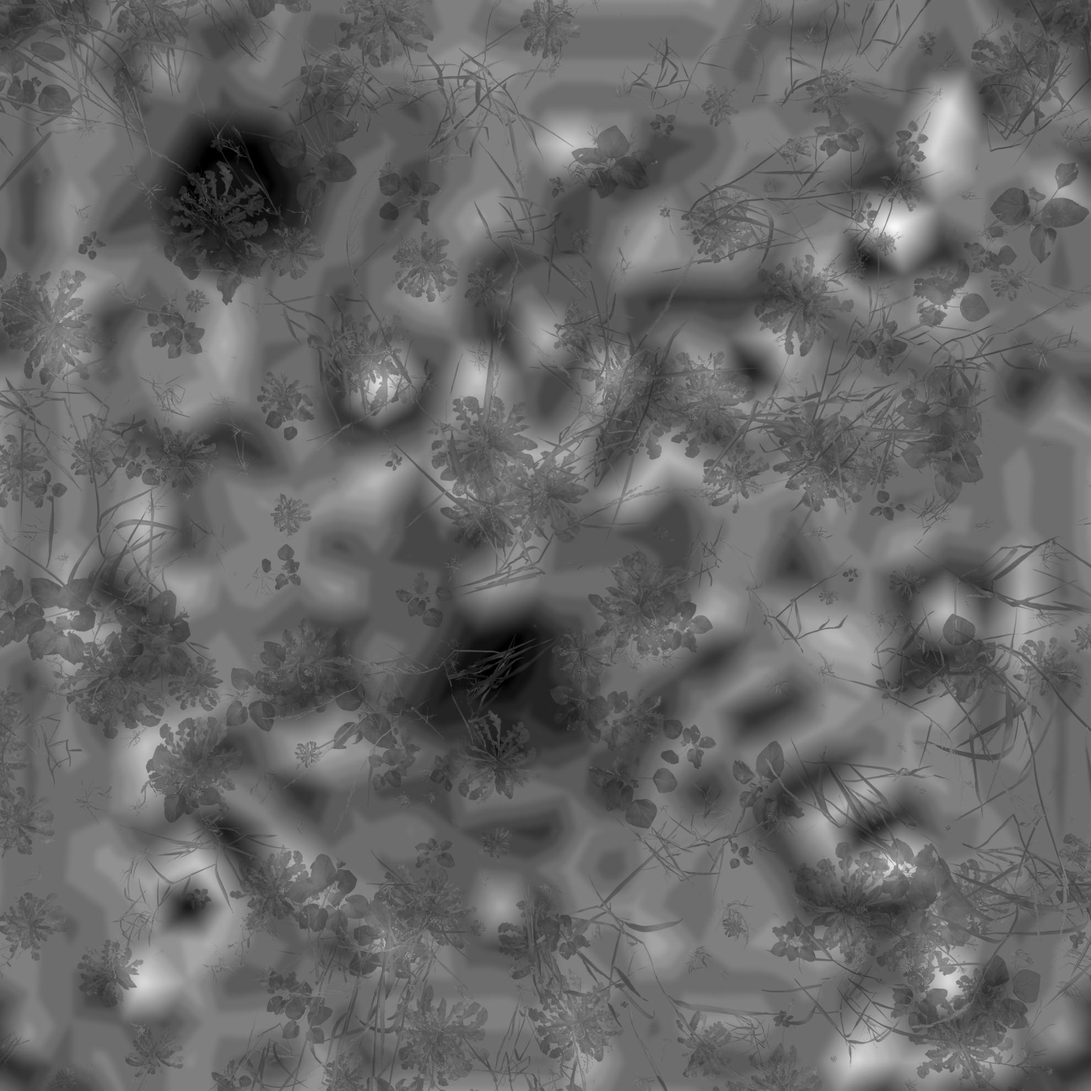landmine: (425, 612, 549, 744), (173, 128, 288, 253)
